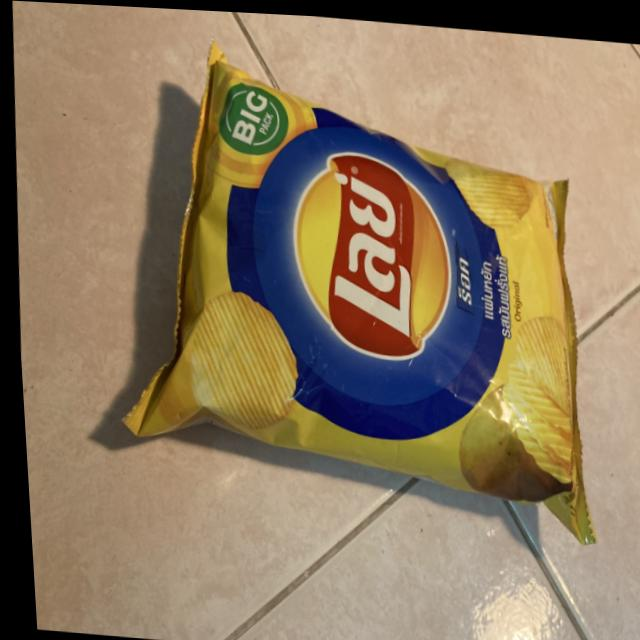LayYellow: (130, 92, 599, 506)
